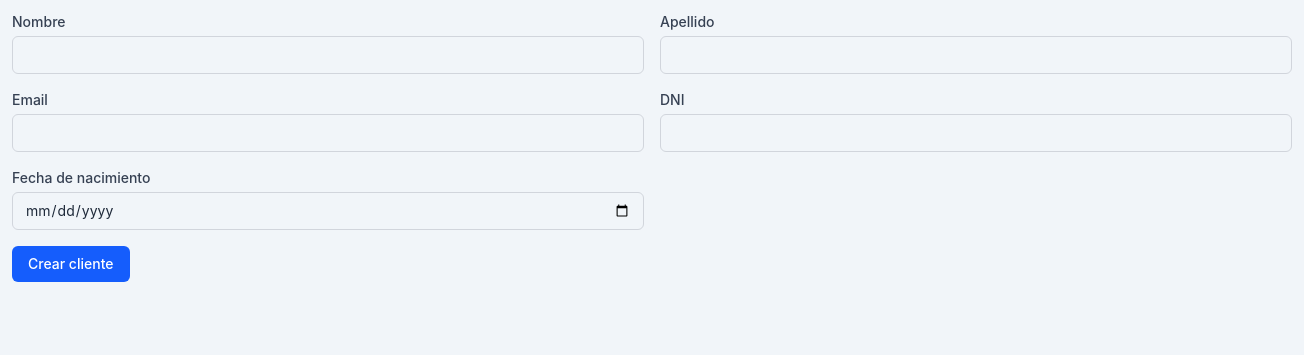
Scenario: CustomerForm › envía los datos y muestra mensaje de éxito
The image size is (1304, 355).
Type " Ana " into the field labelled "Nombre" at (328, 55), box [12,36,644,74]
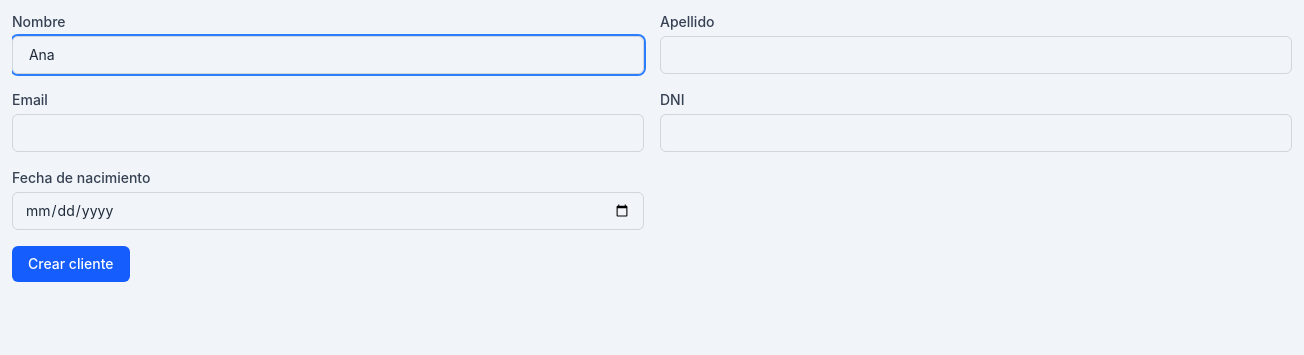
Type "Pérez" into the field labelled "Apellido" at (976, 55), box [660,36,1292,74]
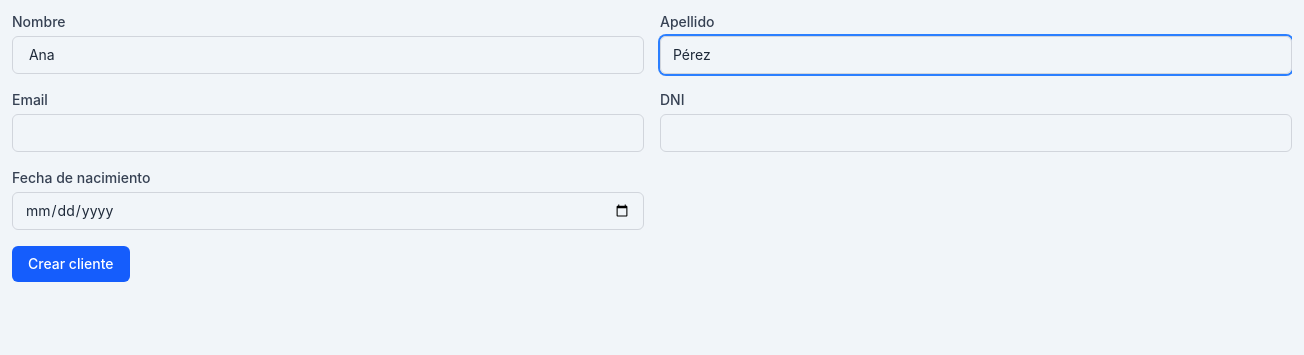
Type "ana@mail.com" into the field labelled "Email" at (328, 133), box [12,114,644,152]
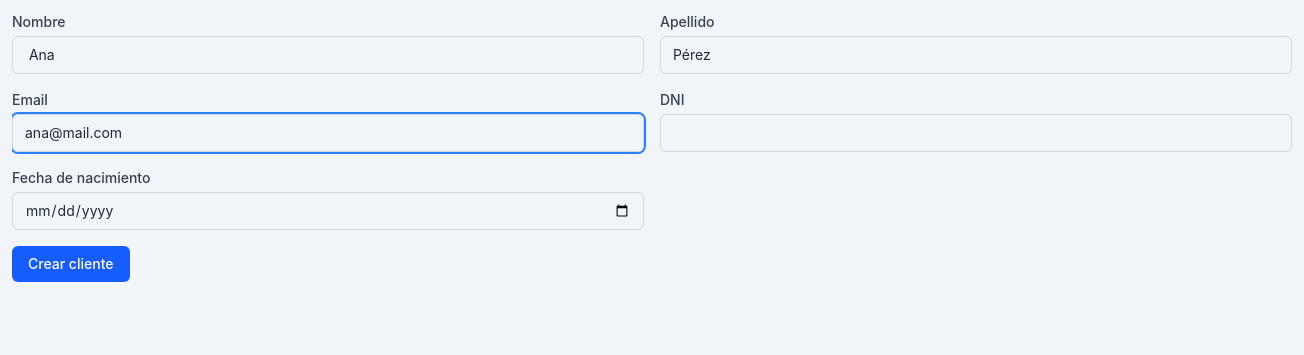
Type "12345678" into the field labelled "DNI" at (976, 133), box [660,114,1292,152]
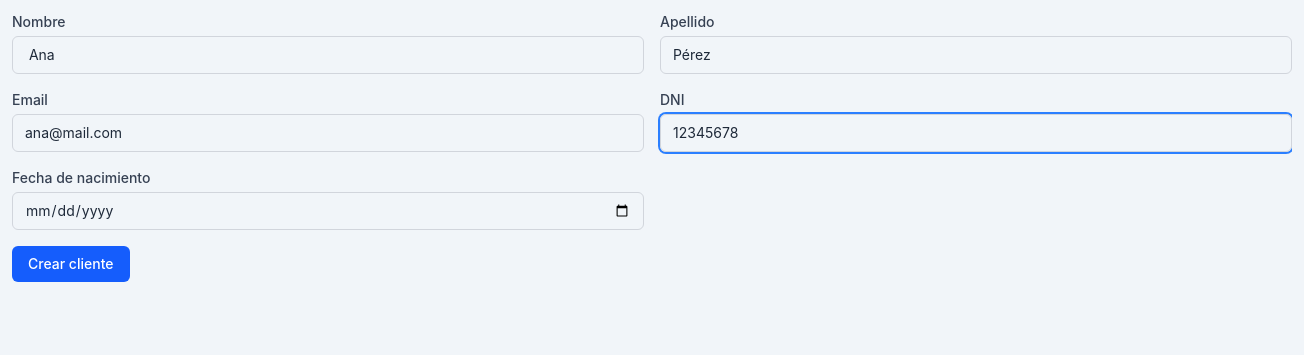
Type "1990-05-20" into the date field labelled "Fecha de nacimiento" at (328, 211), box [12,192,644,230]
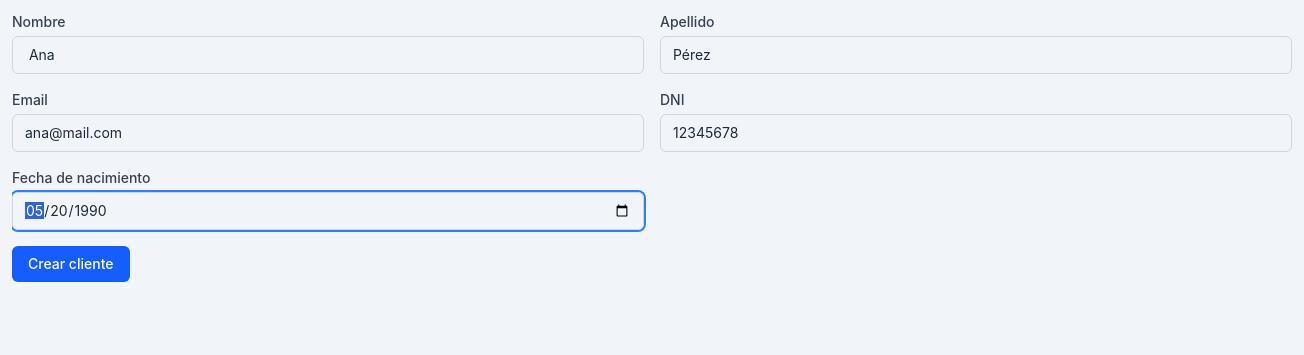
Click the button "Crear cliente" at (71, 264), box [12,246,130,282]
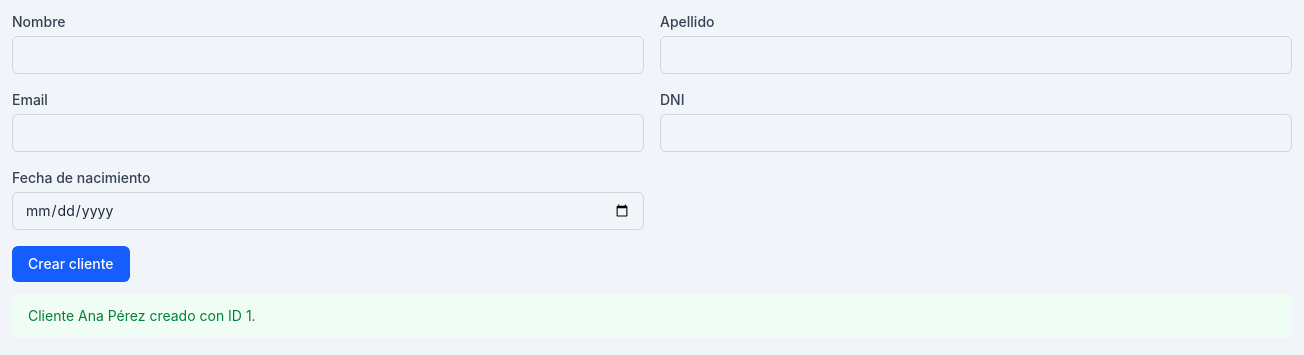
Expected: the text "Cliente Ana Pérez creado con ID 1." is shown, [12,294,1292,338]
